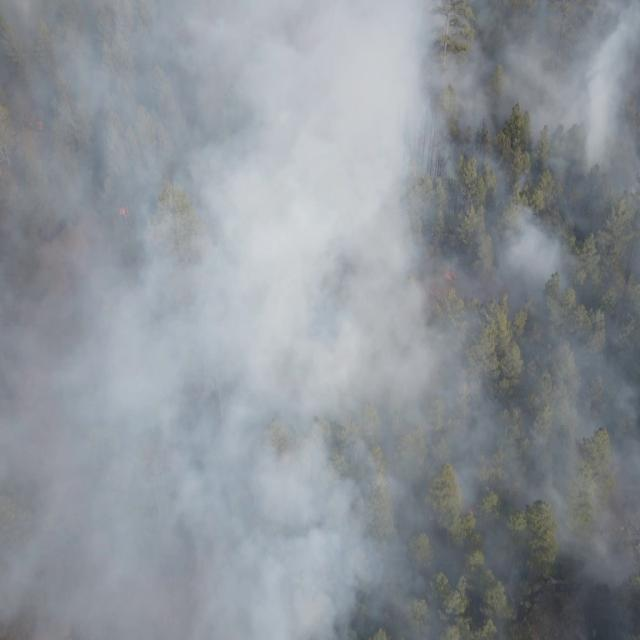fire: (28, 116, 48, 132), (442, 266, 459, 283), (117, 205, 132, 221), (465, 506, 481, 516)
smoke: (0, 0, 640, 640)
